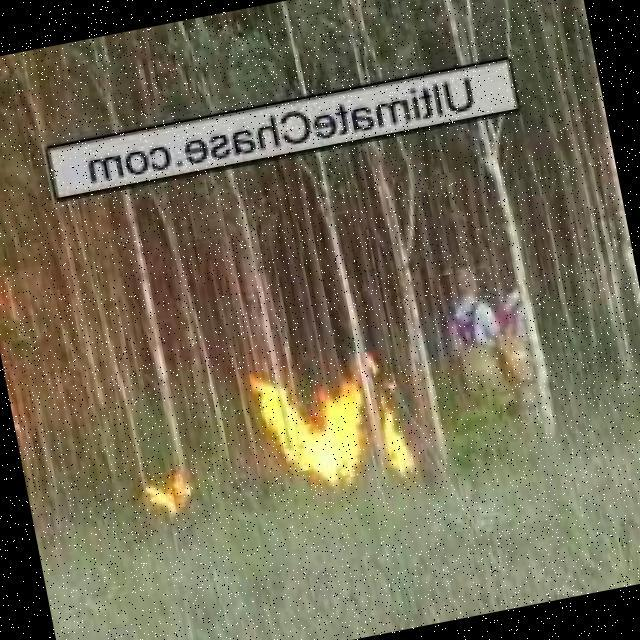Fire: (246, 364, 377, 503), (374, 405, 421, 491), (133, 473, 197, 516)
